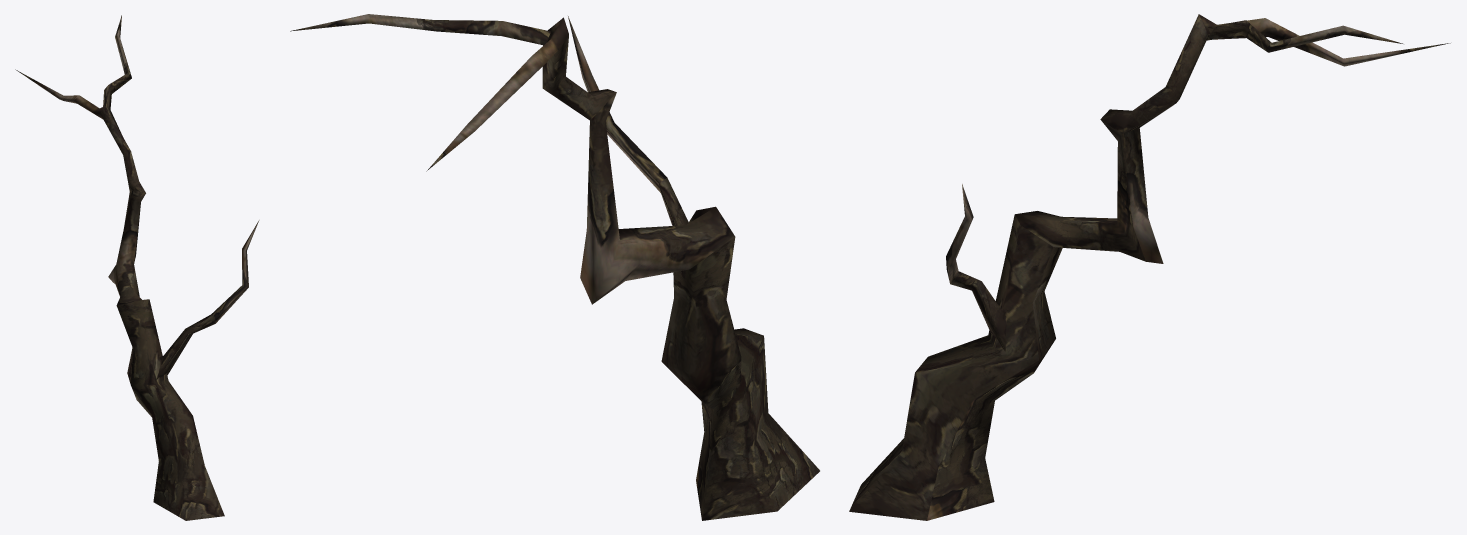
The model's file is C_shu003.fbx.
3 renders of one model, left to right at view 1: azimuth 30°, elevation 25°; view 2: azimuth 150°, elevation 25°; view 3: azimuth 270°, elevation 25°, orthographic. The views are drawn at different scales.
Visible parts, largest first — view 1: C_shu003; view 2: C_shu003; view 3: C_shu003.
Part boxes in pixels (x1,y1,x2,y2): C_shu003: (15,15,259,520); C_shu003: (290,14,819,520); C_shu003: (849,14,1450,520).
Bounding box in the file's own units: 192 × 505 × 524.
